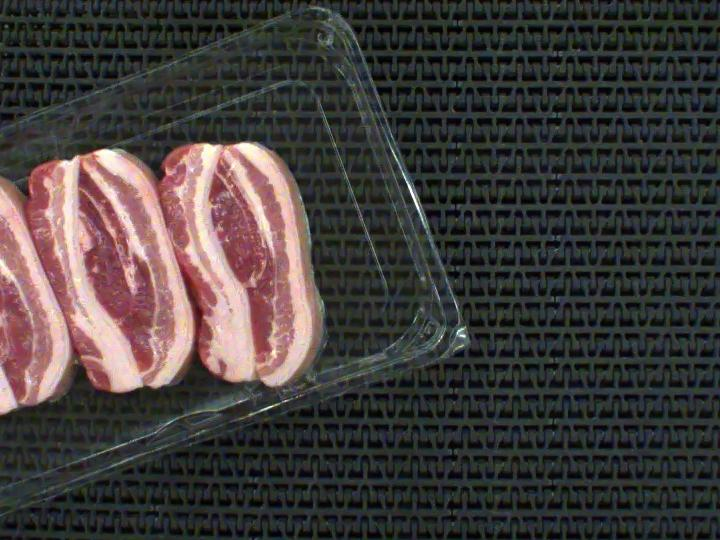packaging-error: (195, 314, 388, 457)
